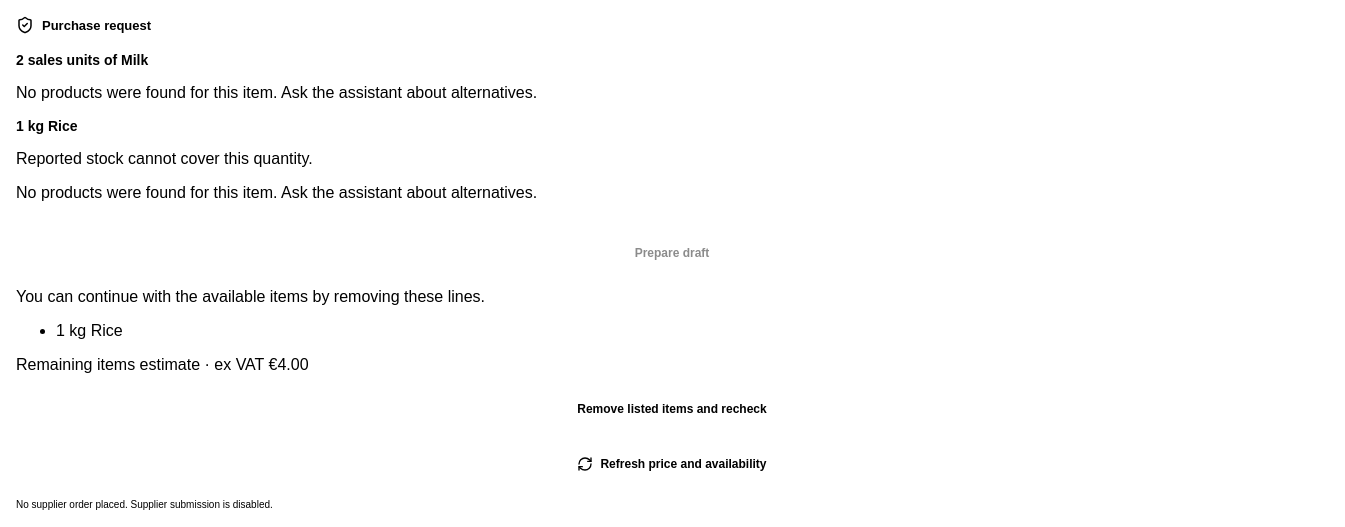
inline purchase decisions › asks before dropping unavailable items and rechecks the amended basket
Expected: the button "Prepare draft" is disabled, [16,234,1328,272]
Click the button "Remove listed items and recheck". click: coordinates (672, 409)
box: [16,390,1328,428]
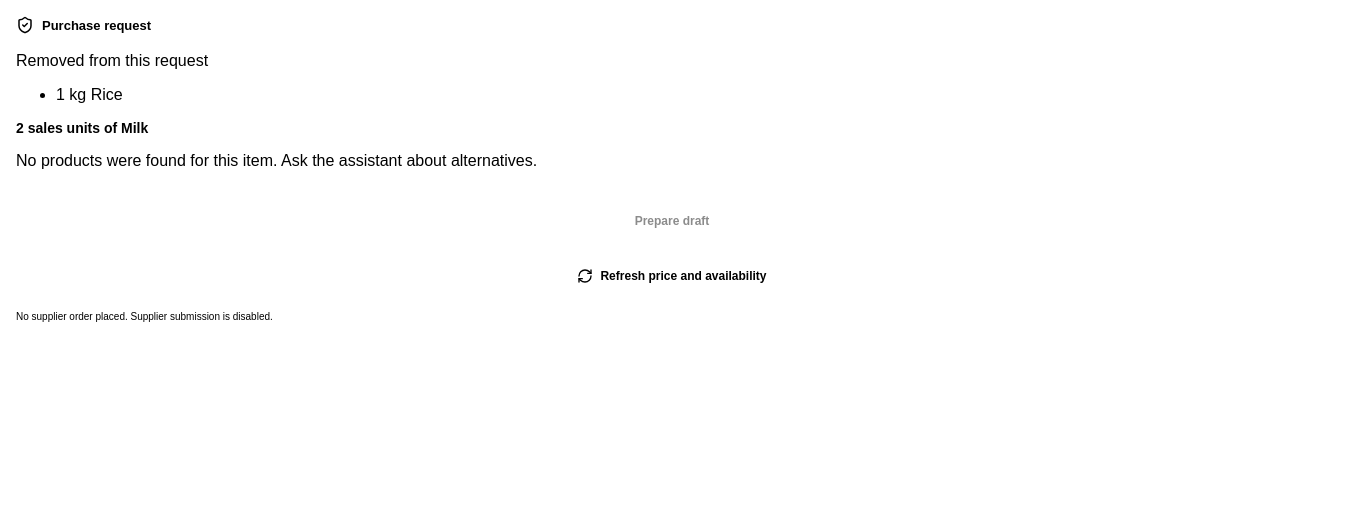
Expected: the text "1 kg Rice" is shown, [56,86,123,103]
Expected: the text "Removed from this request" is shown, [16,52,208,69]
